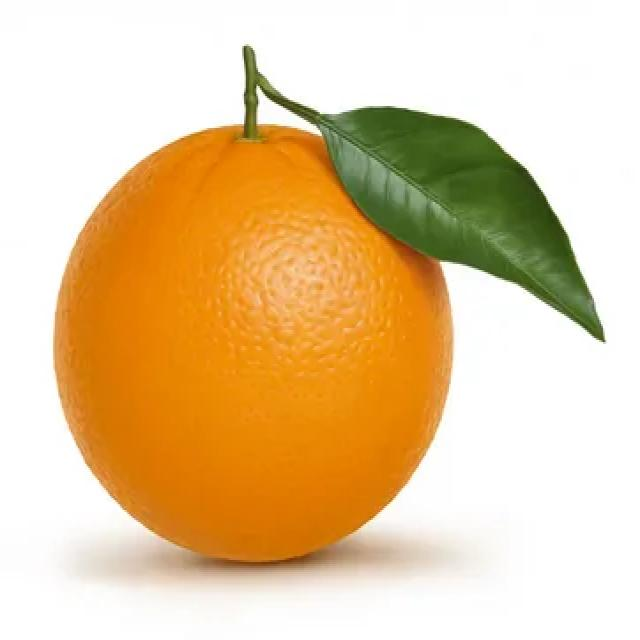orange: (21, 78, 487, 589)
